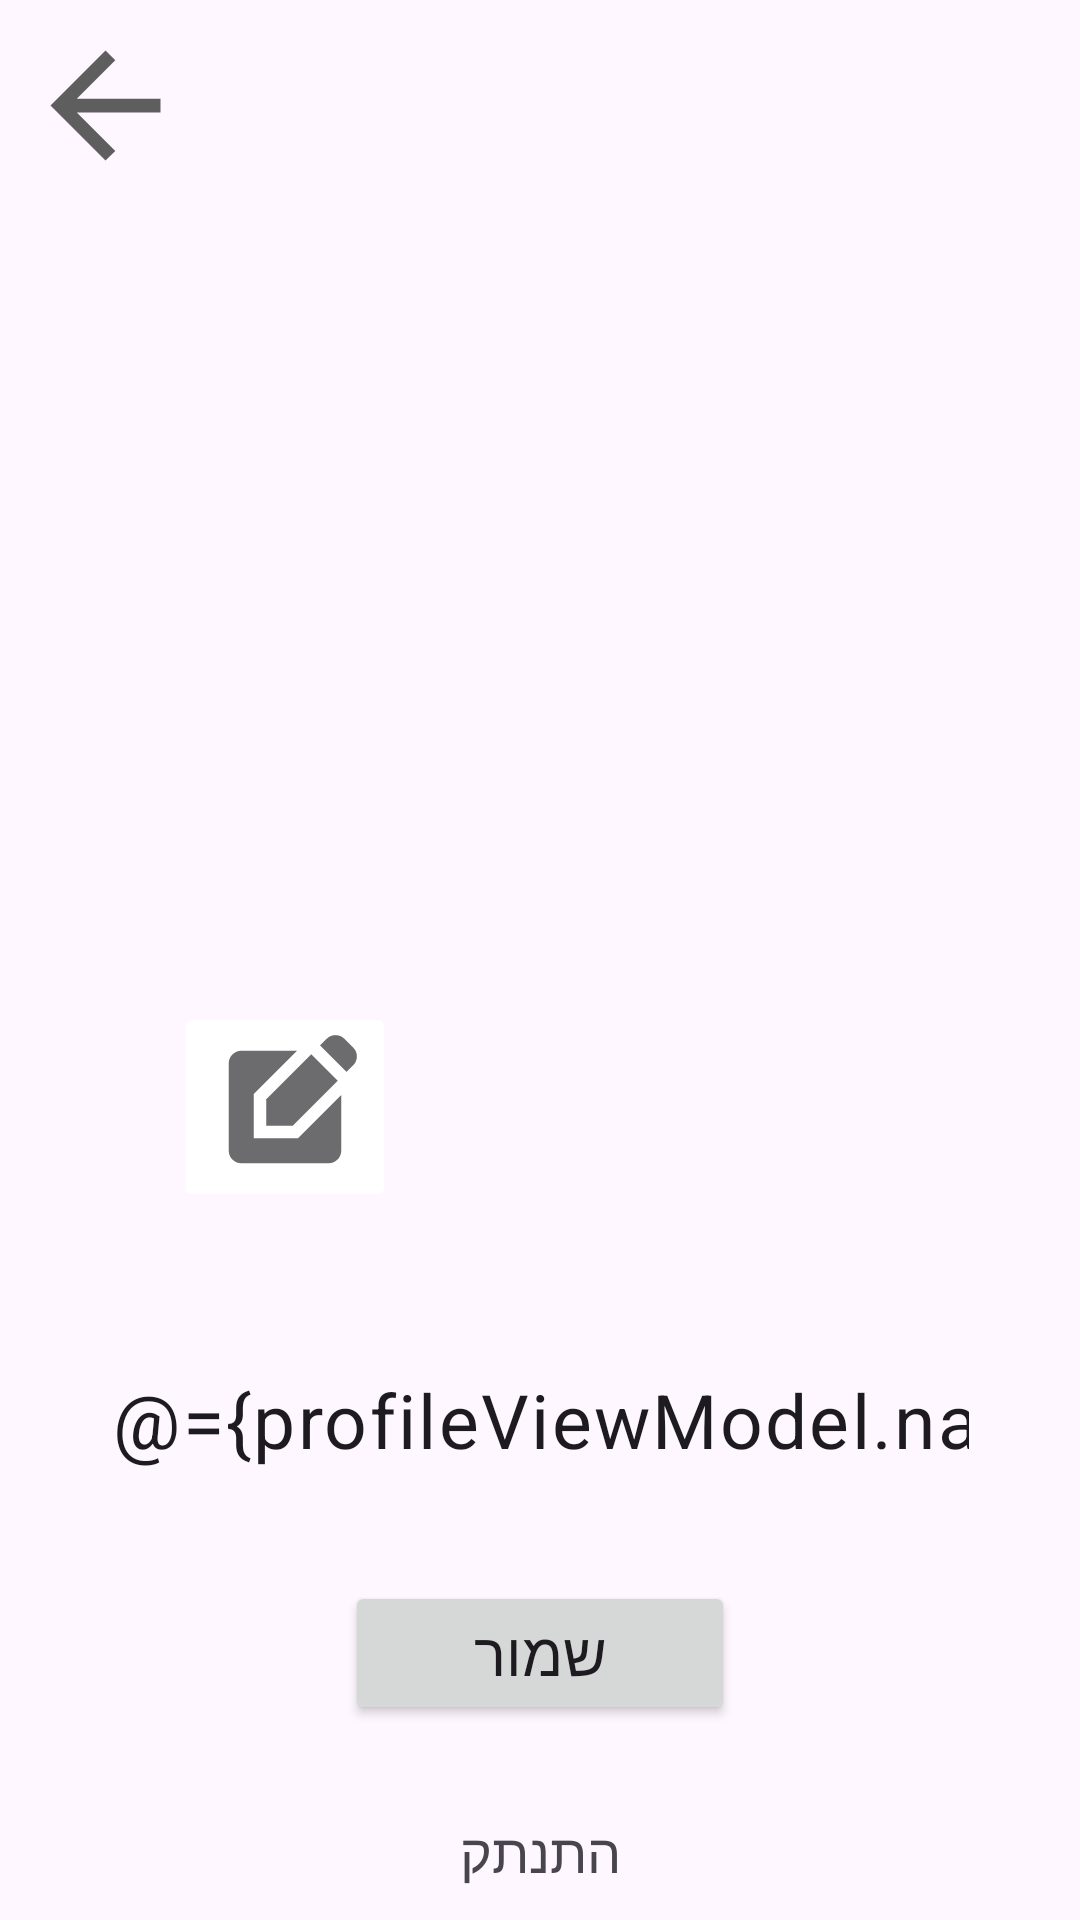

Icons on this 1080 x 1920 Android screen, each with its box as rect(x1, y1, x2, y2):
arrow back: rect(50, 50, 161, 161)
edit square: rect(228, 1035, 357, 1164)
